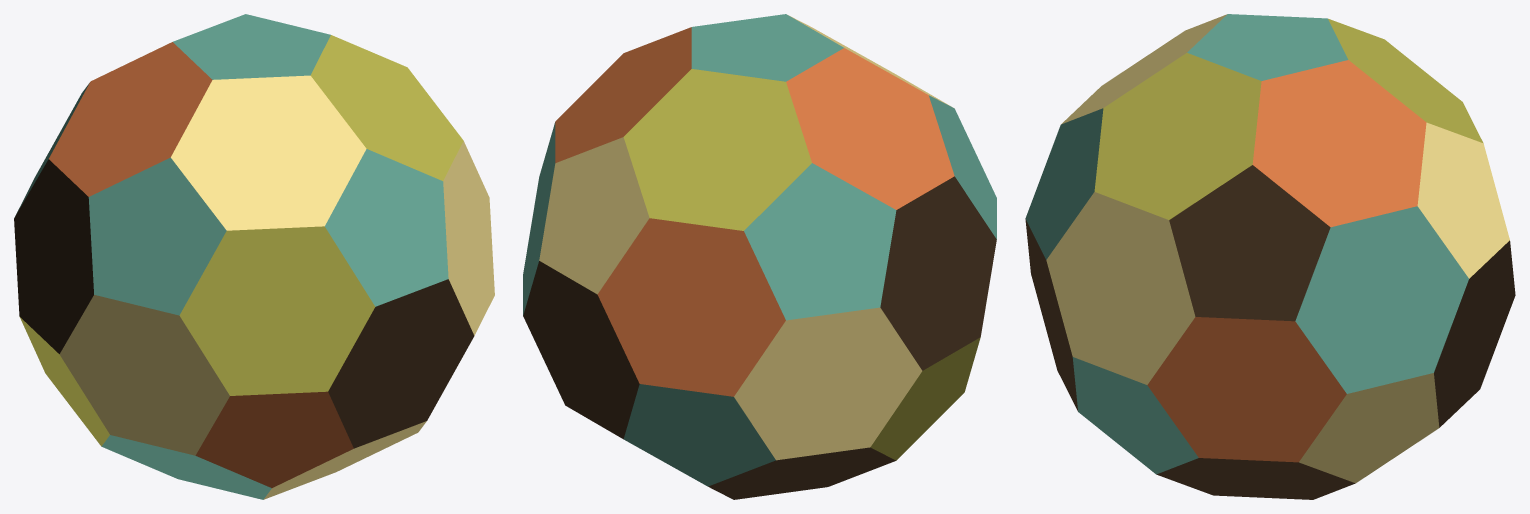
The model's file is Planet.dae.
3 views of the same model, side by side, from view 1: azimuth 30°, elevation 25°; view 2: azimuth 150°, elevation 25°; view 3: azimuth 270°, elevation 25° (orthographic).
Parts seen in each view (by area): view 1: SketchUp (×15); view 2: SketchUp (×15); view 3: SketchUp (×16).
Part boxes in pixels (x1,y1,x2,y2): SketchUp (×15): (14,14,494,499); SketchUp (×15): (523,14,996,499); SketchUp (×16): (1025,14,1515,499).
Size of the model in its own units: 22.82 by 22.93 by 21.86.
